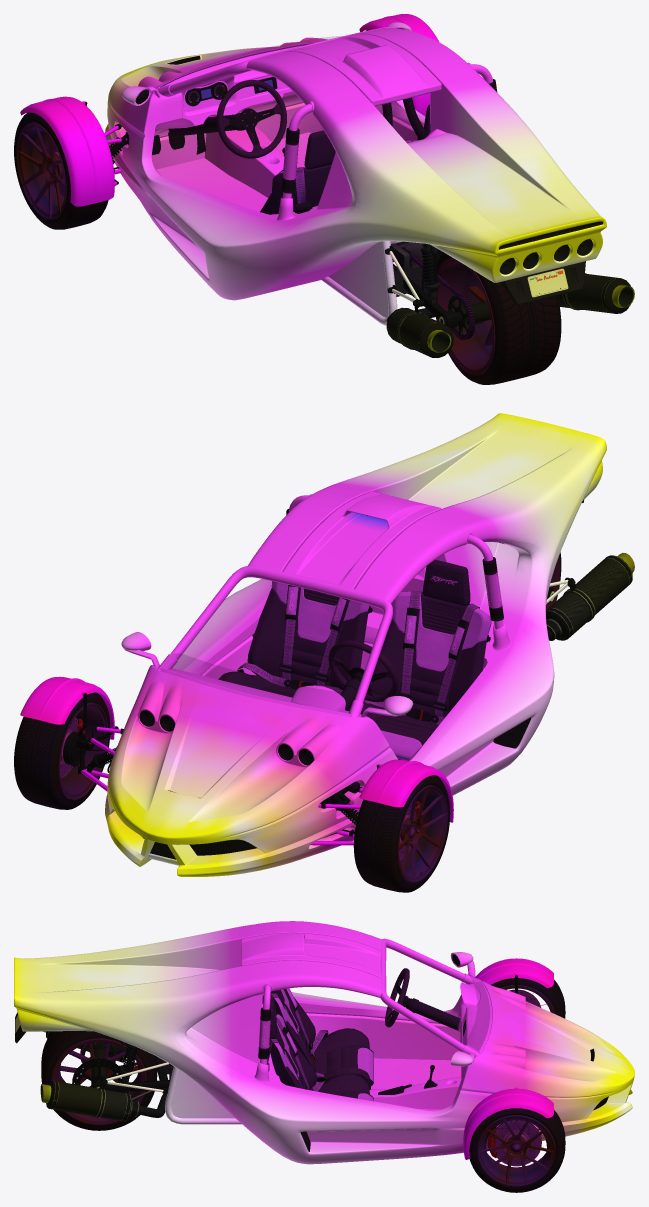
The model's file is raptor.glb.
3 views of the same model, one above another, from view 1: azimuth 30°, elevation 25°; view 2: azimuth 150°, elevation 25°; view 3: azimuth 270°, elevation 25° (orthographic). The views are drawn at different scales.
Parts seen in each view (by area): view 1: bodyshell, chassis, wheel_lr, wheel_lf, hub_lf, steeringwheel, swingarm, hub_rf; view 2: bodyshell, chassis, wheel_lf, wheel_rf, hub_rf, windscreen, hub_lf, steeringwheel; view 3: bodyshell, chassis, wheel_rf, wheel_lr, hub_rf, hub_lf, swingarm, wheel_lf, bikedisc_r, windscreen, steeringwheel.
Boxes of the visible parts, x1,y1,x2,y2 form: bodyshell: (105,22,634,357); chassis: (104,46,437,283); wheel_lr: (435,252,561,384); wheel_lf: (14,112,108,229); hub_lf: (20,96,121,206); steeringwheel: (216,80,286,158); swingarm: (393,244,491,340); hub_rf: (359,14,438,116); bodyshell: (105,413,634,876); chassis: (78,559,491,845); wheel_lf: (353,775,450,892); wheel_rf: (14,692,110,809); hub_rf: (20,676,119,767); windscreen: (162,654,353,713); hub_lf: (325,759,453,825); steeringwheel: (328,640,398,702); bodyshell: (14,921,634,1164); chassis: (121,981,541,1134); wheel_rf: (469,1108,565,1192); wheel_lr: (41,1031,157,1130); hub_rf: (463,1087,553,1159); hub_lf: (475,958,553,993); swingarm: (80,1044,170,1100); wheel_lf: (491,978,565,1018); bikedisc_r: (72,1042,124,1092); windscreen: (467,974,489,1050); steeringwheel: (385,968,409,1027).
Size of the model in its own units: 1.92 by 1.11 by 3.43.
25 materials, 25 textured.
